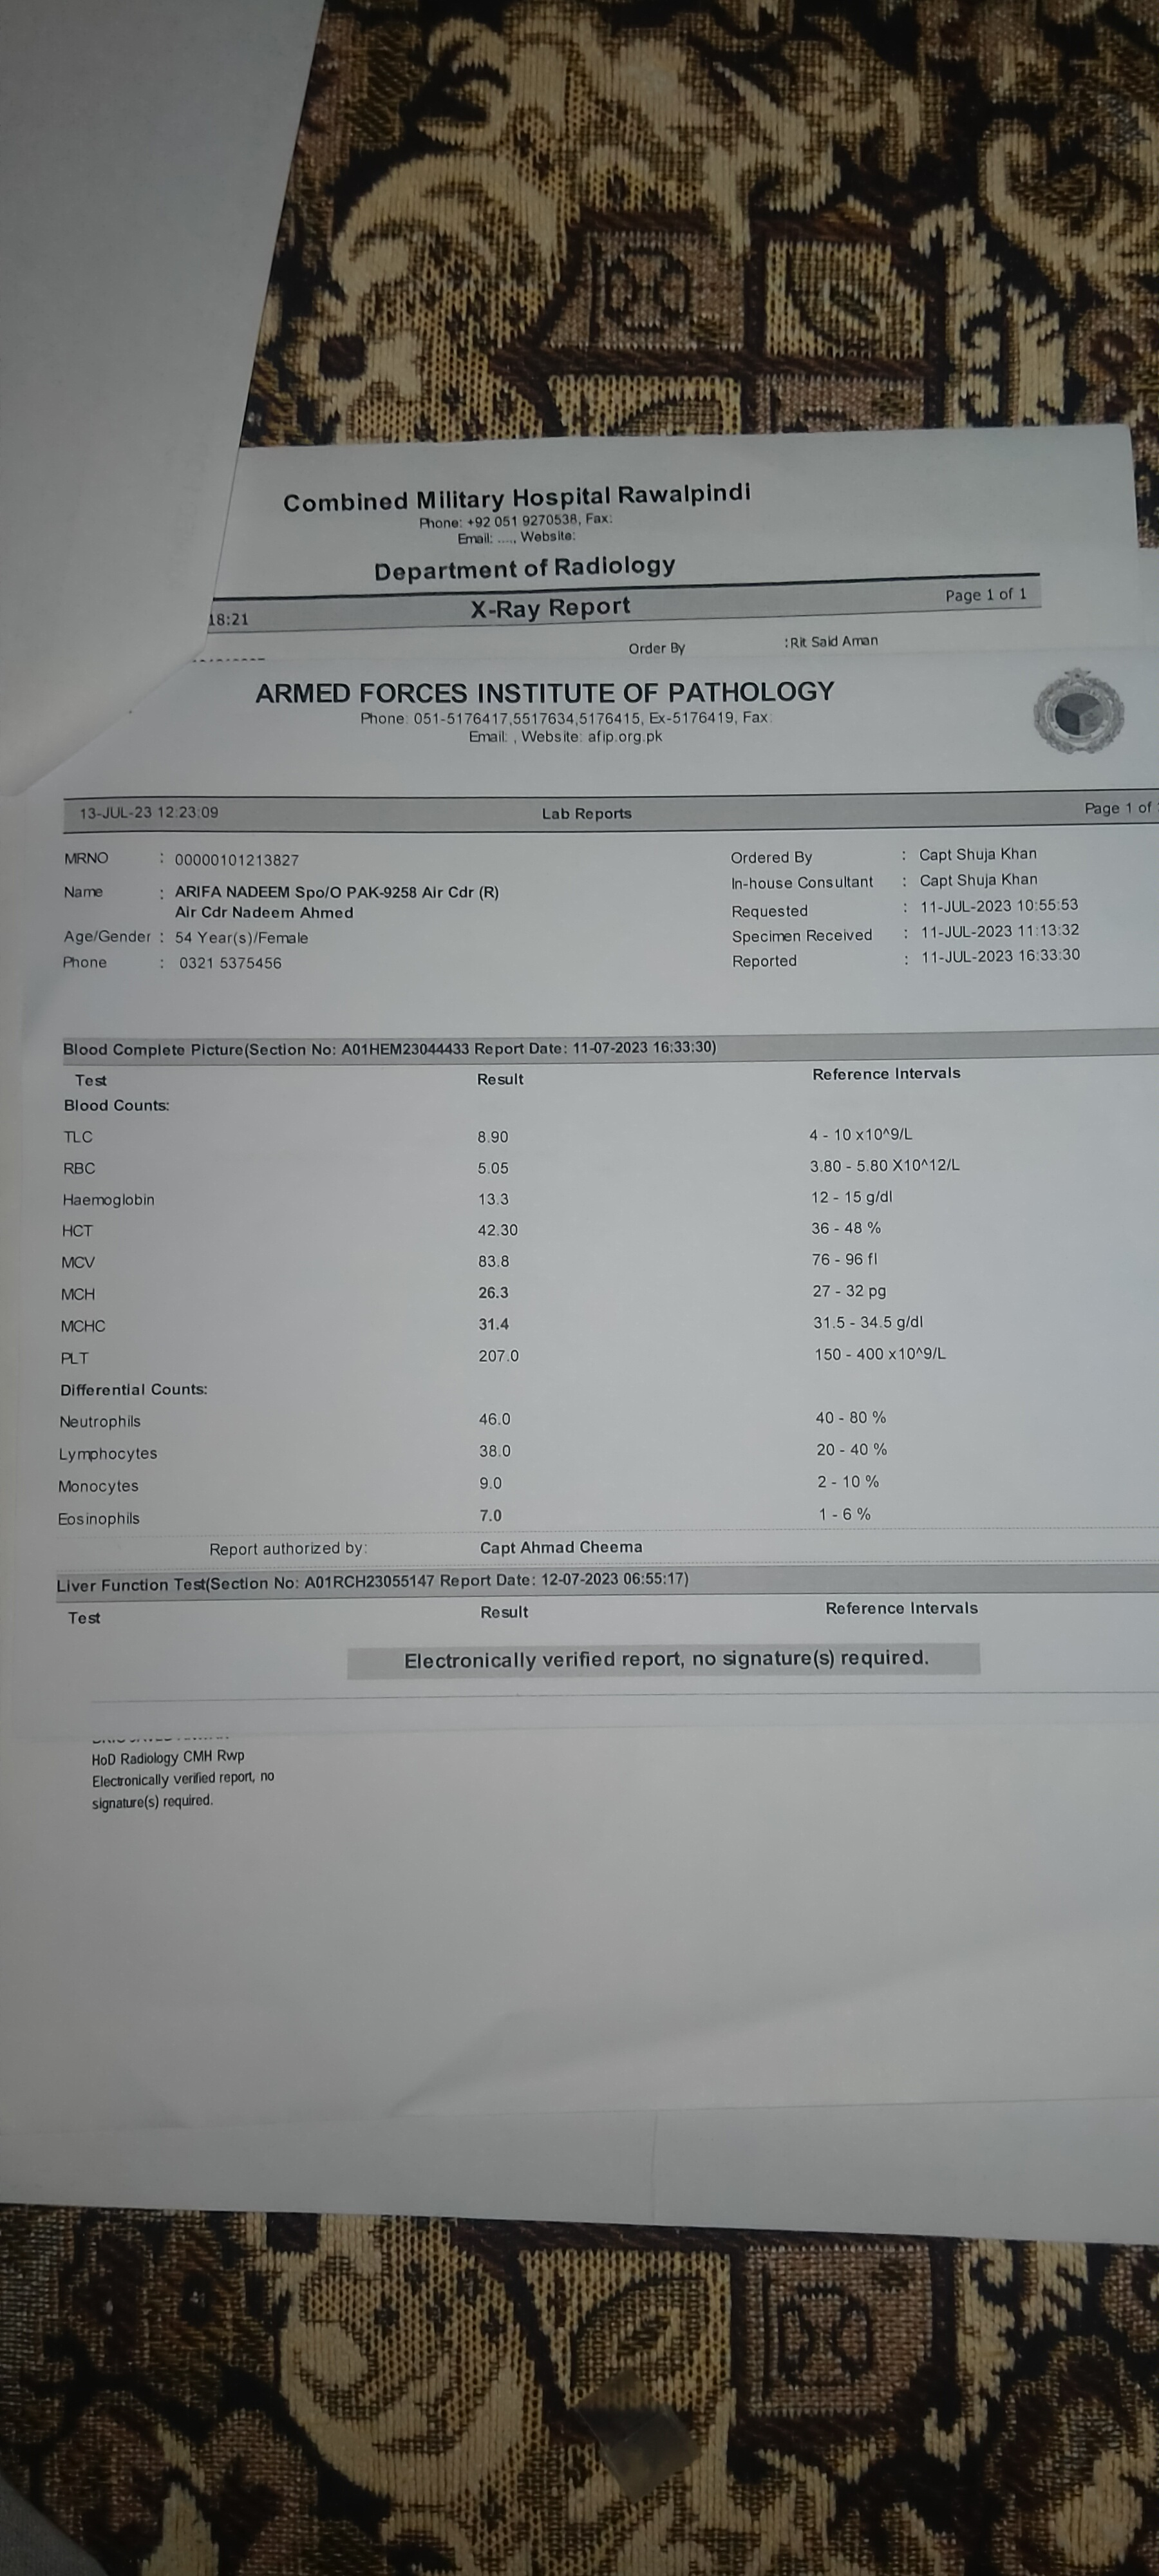report: (28, 1007, 1159, 1697)
